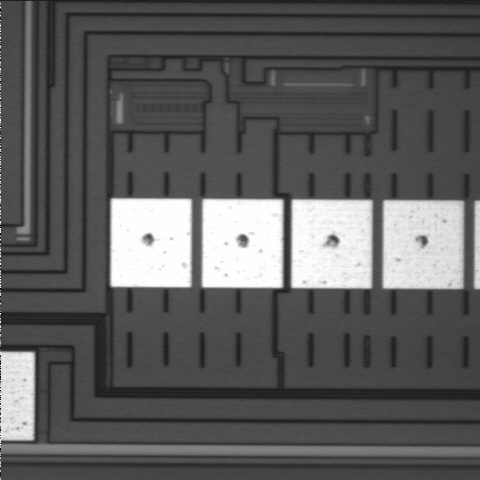pad: (111, 198, 192, 287), (202, 199, 283, 288), (291, 200, 372, 288), (383, 200, 463, 289)
